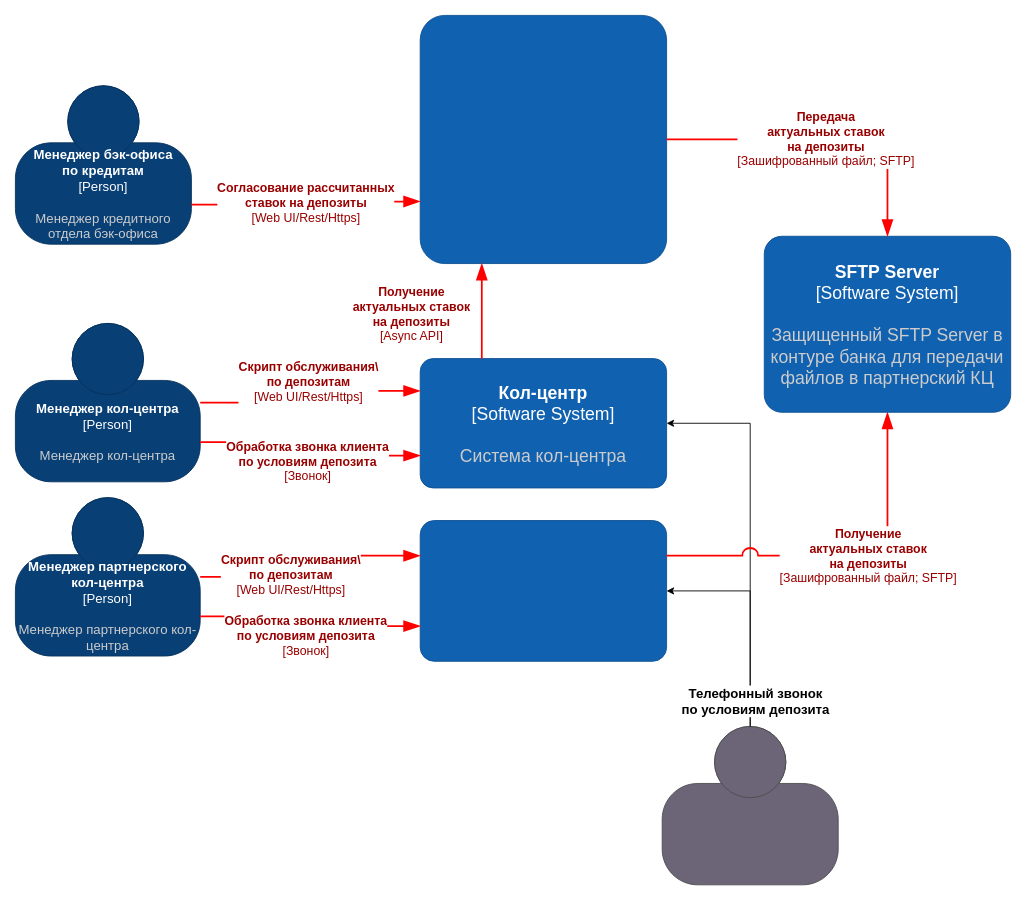
The diagram is 1026 pixels wide and 900 high, and some of its shapes have lost their labels. The shapes that lost their labels are listed below. From the top down, each one's centre as x and y in pixels, then its label:
point (543, 139): АБС [Software System] Автоматизированная банковская система
point (543, 590): Партнерский кол-центр [Software System] Партнерская система кол-центра
point (749, 805): Клиент [Person] Клиент банка
